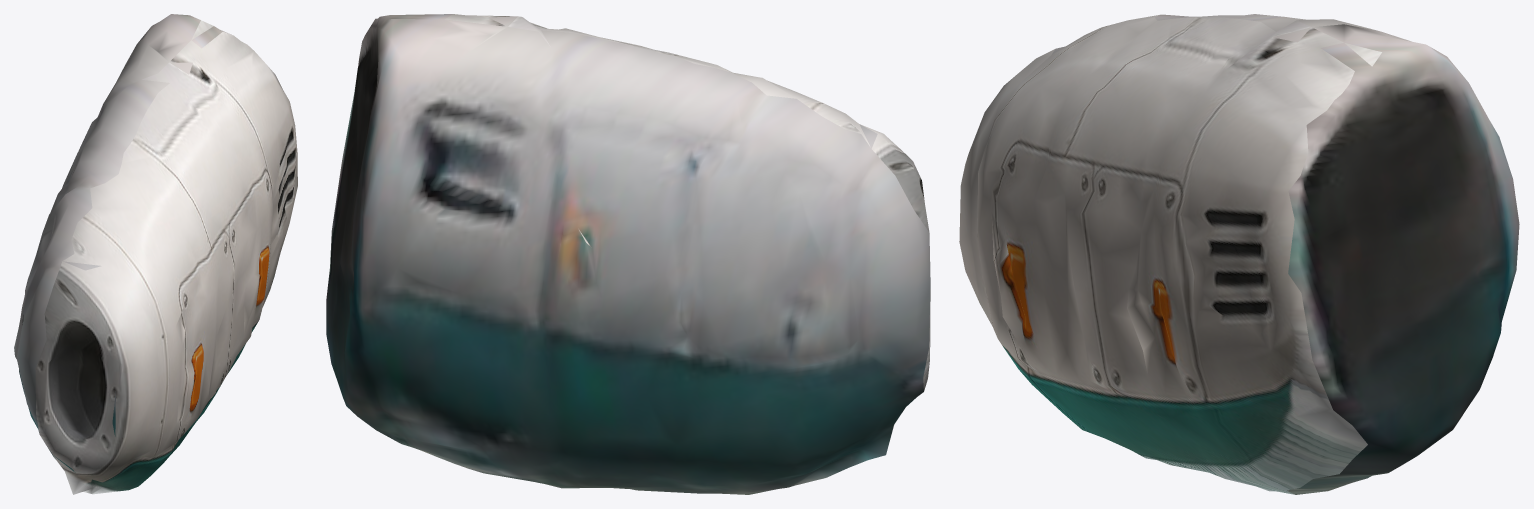
File: nacelle.glb
3 views of the same model, side by side, from view 1: azimuth 30°, elevation 25°; view 2: azimuth 150°, elevation 25°; view 3: azimuth 270°, elevation 25° (orthographic). The views are drawn at different scales.
Visible parts, largest first — view 1: nacelle; view 2: nacelle; view 3: nacelle.
Part boxes in pixels (box(x1,y1,x2,y2)): nacelle: box(14, 14, 297, 494); nacelle: box(326, 14, 930, 494); nacelle: box(959, 14, 1519, 494).
Size of the model in its own units: 1 by 1 by 1.
Materials: 2 (2 with a texture image).
